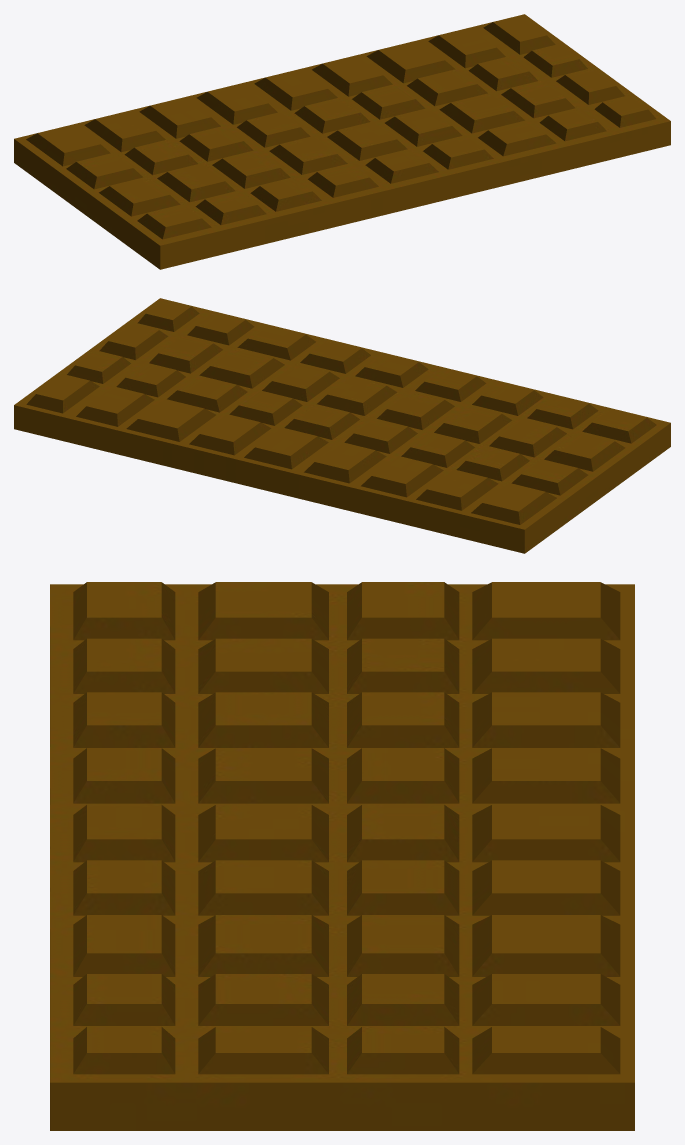
Rendered from Chocolate.fbx.
3 views of the same model, one above another, from view 1: azimuth 30°, elevation 25°; view 2: azimuth 150°, elevation 25°; view 3: azimuth 270°, elevation 25° (orthographic). The views are drawn at different scales.
Parts seen in each view (by area): view 1: Chocolate; view 2: Chocolate; view 3: Chocolate.
Boxes of the visible parts, x1=… form: Chocolate: x1=14, y1=14, x2=670, y2=269; Chocolate: x1=14, y1=298, x2=670, y2=553; Chocolate: x1=50, y1=582, x2=634, y2=1130.
Size of the model in its own units: 3.34 by 0.2018 by 1.65.
Materials: 1 (1 with a texture image).
